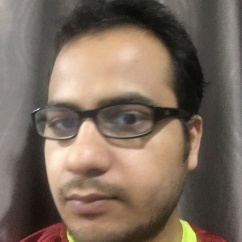glasses: (30, 106, 187, 137)
